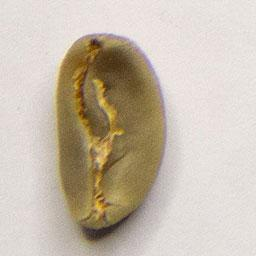longberry: (52, 30, 171, 235)
